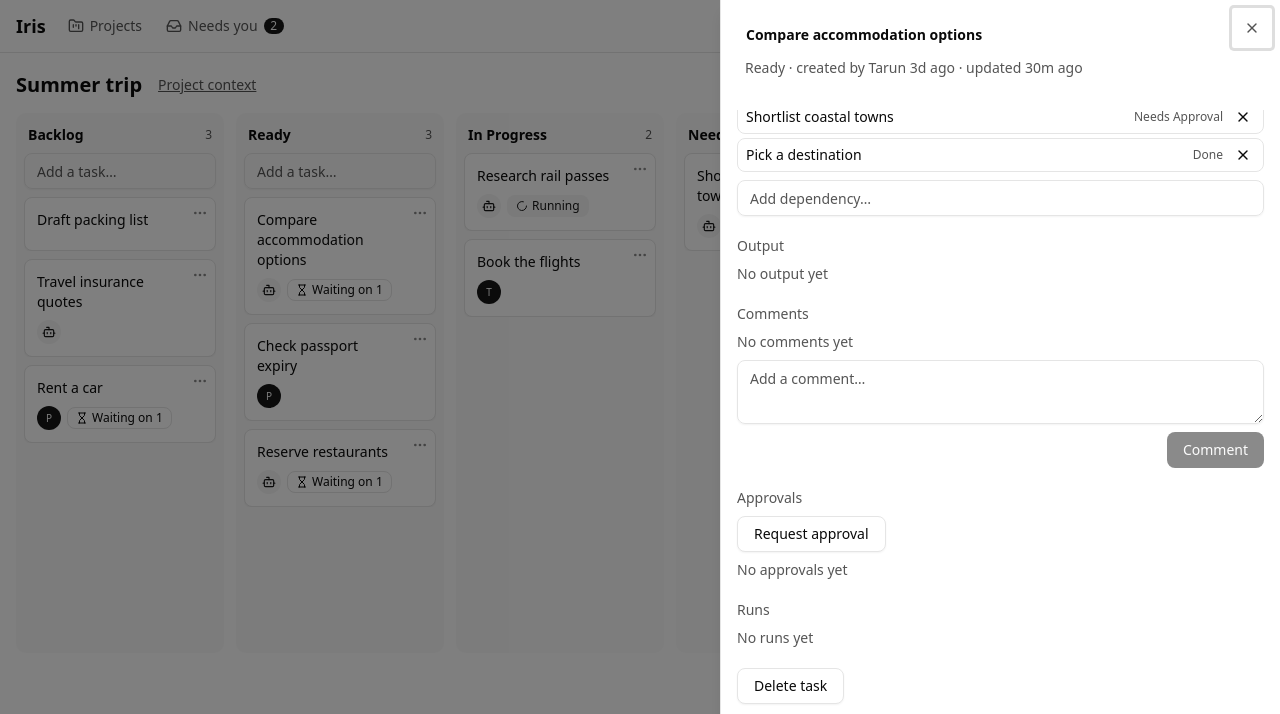
Test: requesting approval › a failed request keeps the form and what was typed
The width and height of the screenshot is (1280, 714).
(page scrolled)
Click the button "Request approval" at {"x": 811, "y": 534}, box x1=737 y1=516 x2=886 y2=552
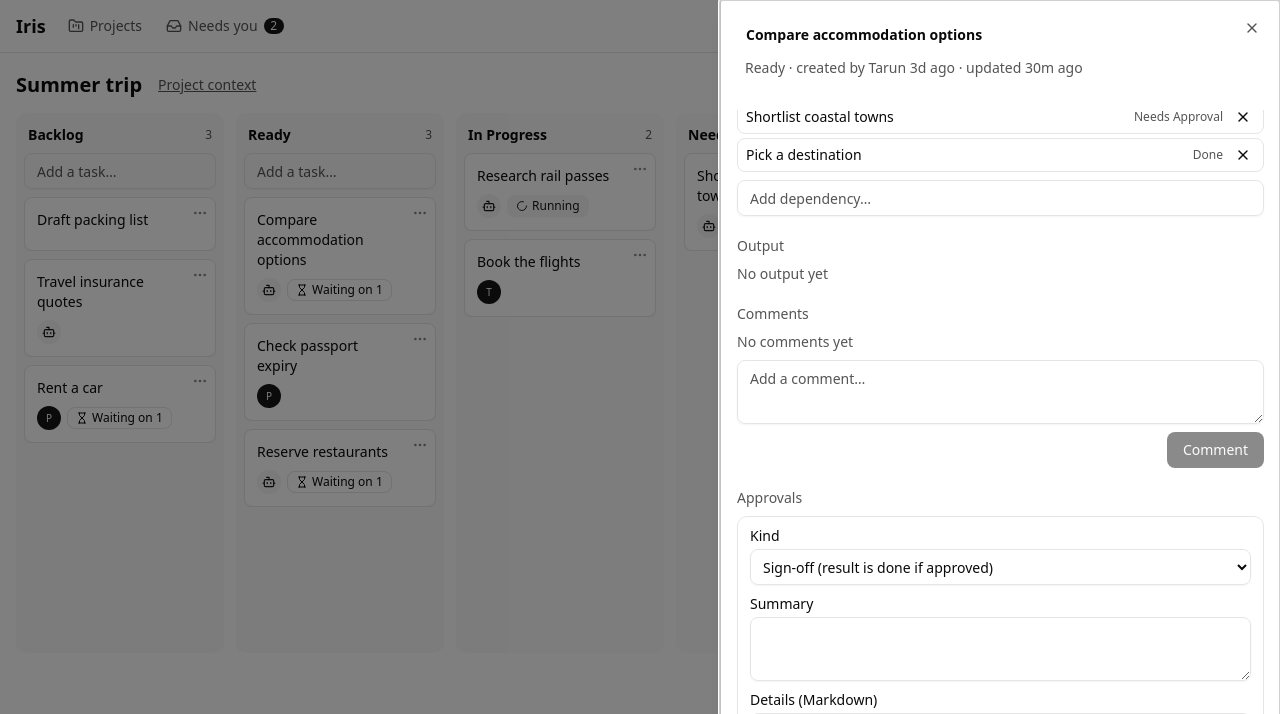
Type "Guest list ready" into the text box labelled "Summary" at {"x": 1000, "y": 649}, box x1=750 y1=617 x2=1251 y2=681
(page scrolled)
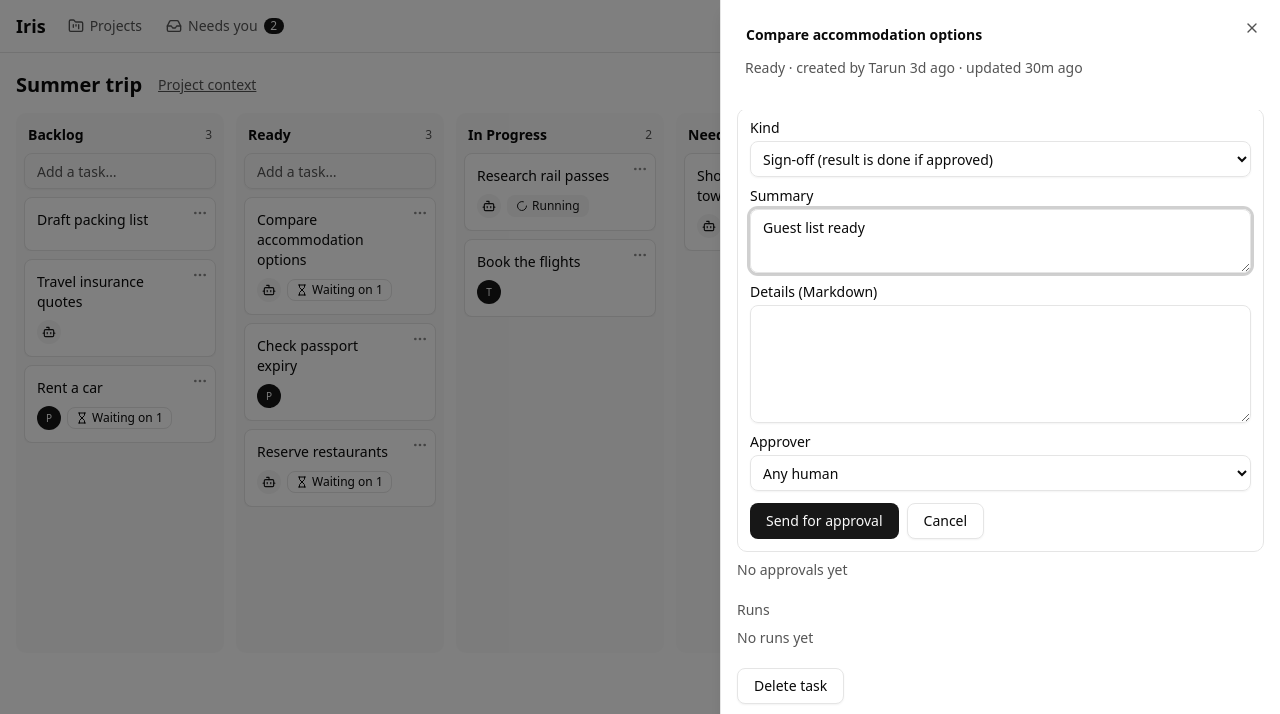
Click the button "Send for approval" at {"x": 824, "y": 521}, box x1=750 y1=503 x2=898 y2=539
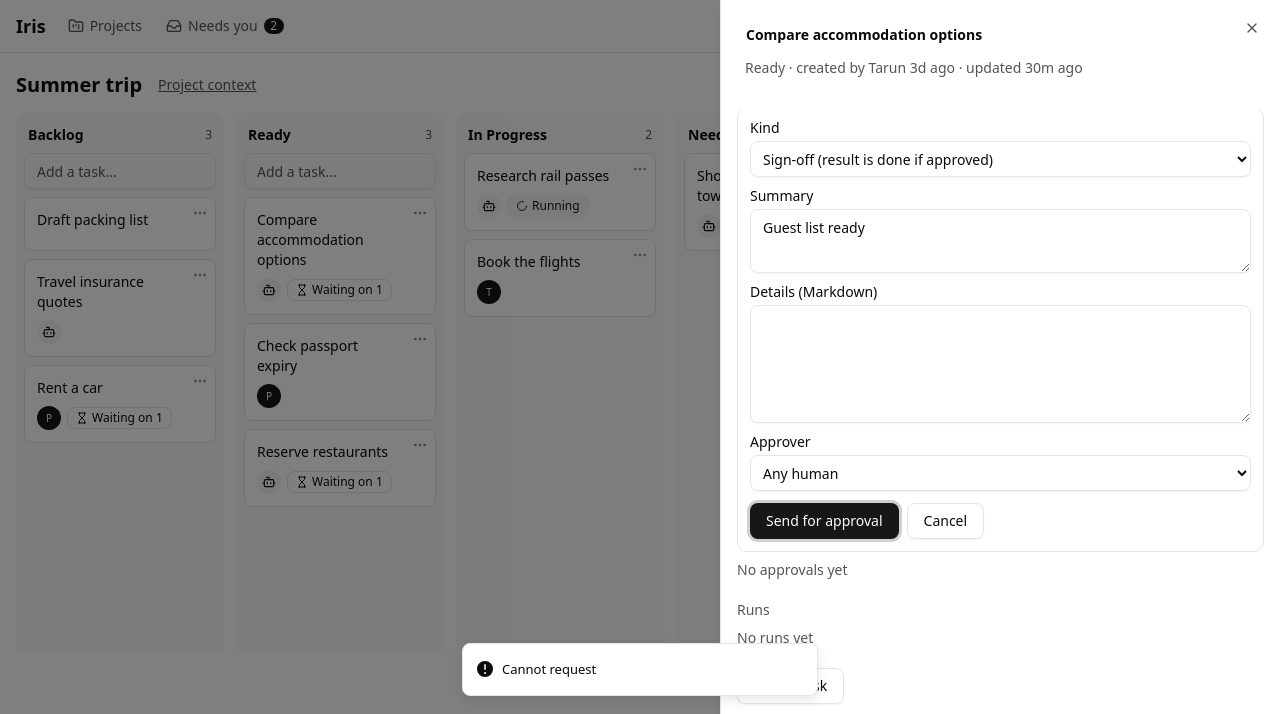
Expected: the text "Compare accommodation options" is shown, x1=257 y1=210 x2=364 y2=269
Result: the text "Cannot request" is shown at x1=502 y1=660 x2=596 y2=679
